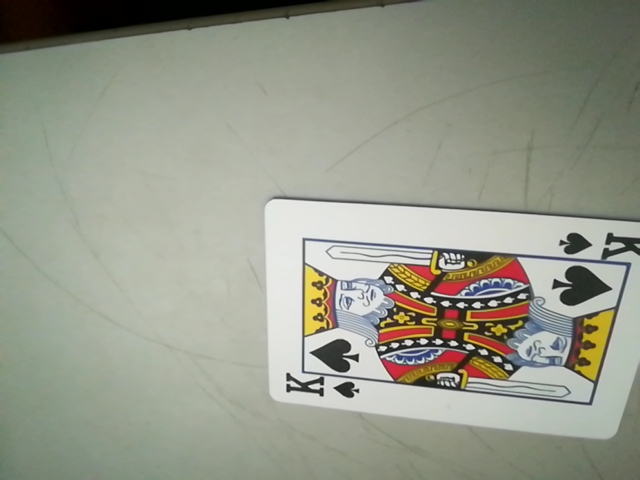ht k: (278, 370, 367, 404)
